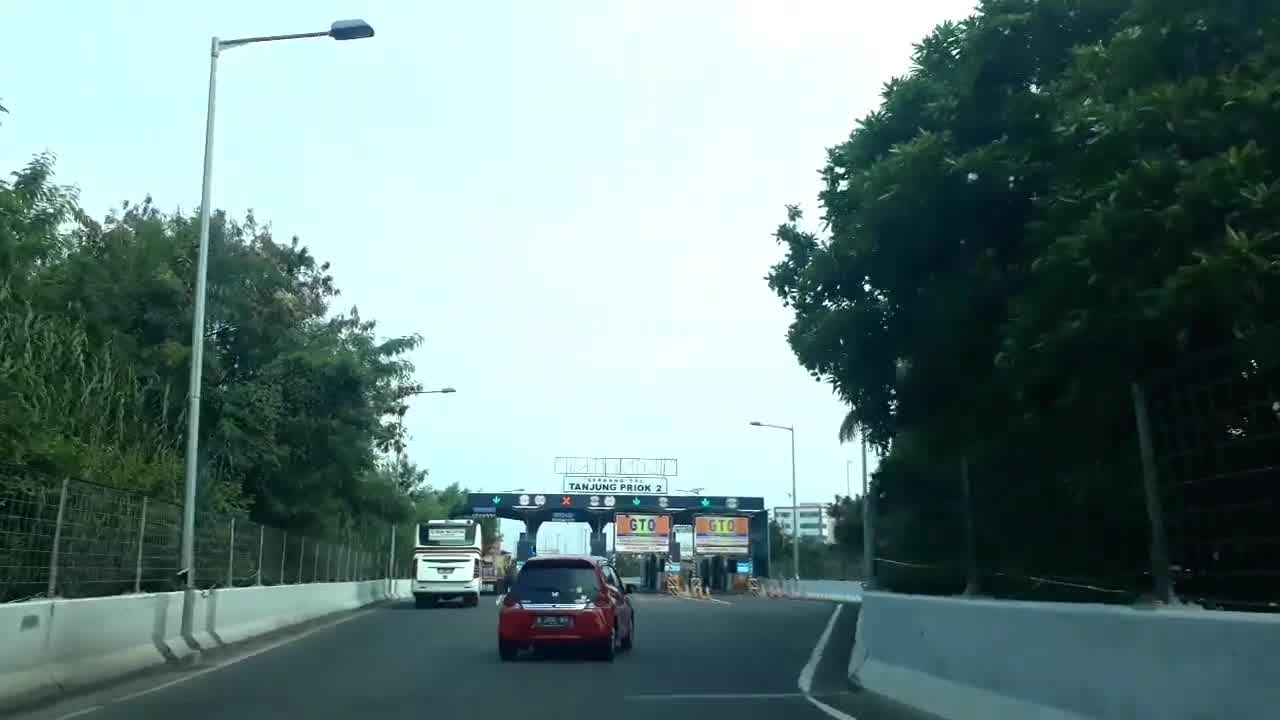plate_positive: (535, 615, 570, 628)
